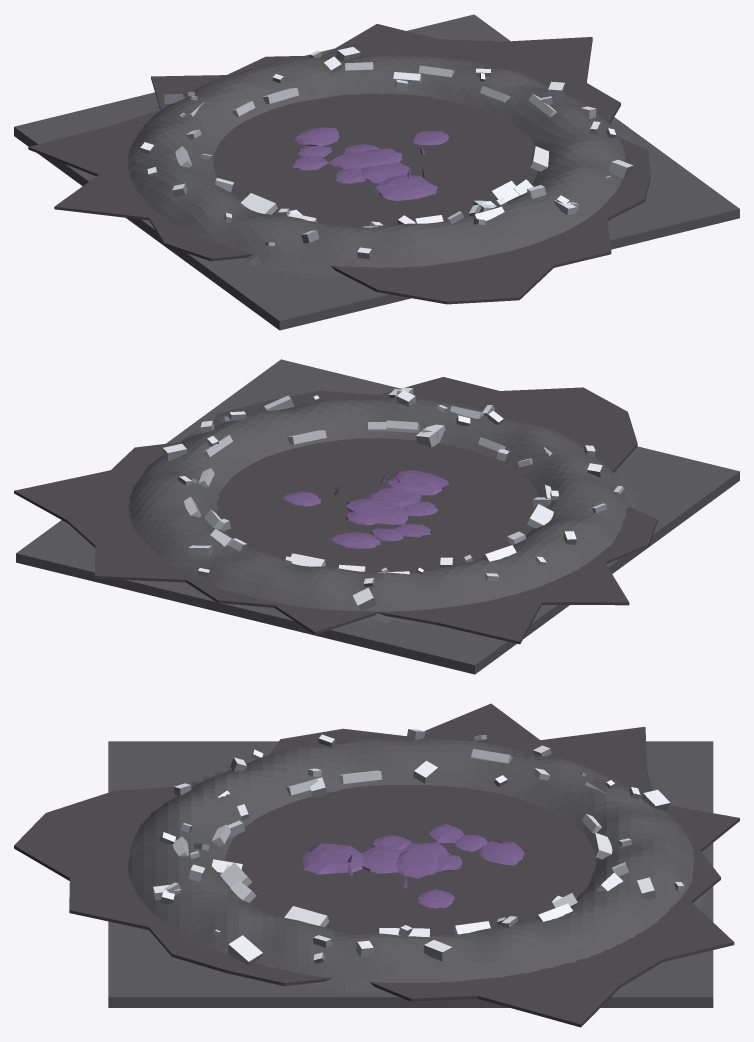
The model's file is PR_Cratera_B.fbx.
3 renders of one model, top to bottom at view 1: azimuth 30°, elevation 25°; view 2: azimuth 150°, elevation 25°; view 3: azimuth 270°, elevation 25°, orthographic. The views are drawn at different scales.
Visible parts, largest first — view 1: PR_Cratera_B; view 2: PR_Cratera_B; view 3: PR_Cratera_B.
Boxes of the visible parts, x1,y1,x2,y2 form: PR_Cratera_B: [14, 14, 739, 330]; PR_Cratera_B: [14, 359, 739, 674]; PR_Cratera_B: [14, 703, 739, 1027].
Size of the model in its own units: 19.43 by 1.4 by 18.57.
